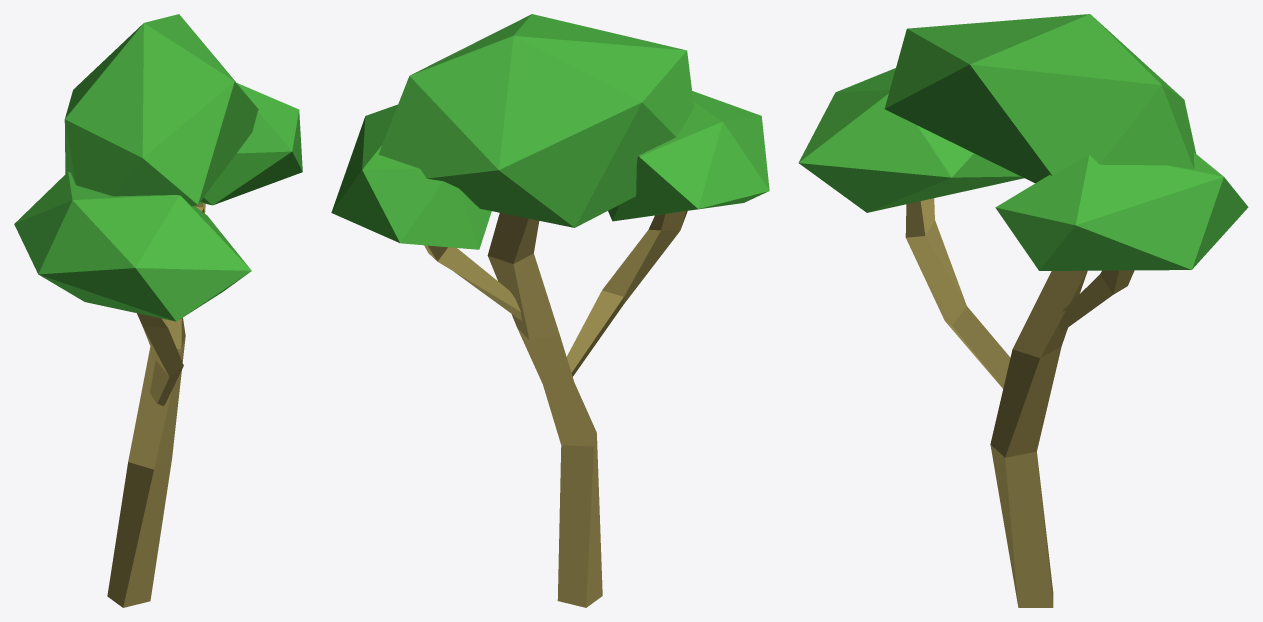
The model's file is MapleTree_2.fbx.
3 renders of one model, left to right at view 1: azimuth 30°, elevation 25°; view 2: azimuth 150°, elevation 25°; view 3: azimuth 270°, elevation 25°, orthographic. The views are drawn at different scales.
Parts seen in each view (by area): view 1: Leaves.002, Leaves.001, Trunk, Leaves, Trunk.002; view 2: Leaves.002, Trunk, Leaves.001, Leaves, Trunk.002, Trunk.001; view 3: Leaves.002, Leaves, Leaves.001, Trunk, Trunk.002, Trunk.001.
Boxes of the visible parts, left/top/right/bottom form: Leaves.002: left=64, top=14, right=258, bottom=206; Leaves.001: left=14, top=172, right=251, bottom=321; Trunk: left=107, top=317, right=185, bottom=607; Leaves: left=200, top=83, right=302, bottom=205; Trunk.002: left=137, top=313, right=183, bottom=405; Leaves.002: left=378, top=14, right=694, bottom=227; Trunk: left=487, top=213, right=602, bottom=607; Leaves.001: left=608, top=91, right=769, bottom=221; Leaves: left=331, top=104, right=491, bottom=249; Trunk.002: left=566, top=211, right=687, bottom=376; Trunk.001: left=424, top=245, right=521, bottom=320; Leaves.002: left=884, top=14, right=1196, bottom=183; Leaves: left=995, top=152, right=1248, bottom=270; Leaves.001: left=798, top=68, right=1024, bottom=212; Trunk: left=990, top=270, right=1087, bottom=607; Trunk.002: left=905, top=198, right=1010, bottom=388; Trunk.001: left=1059, top=270, right=1134, bottom=332.
Bounding box in the file's own units: 222 × 358 × 240.
